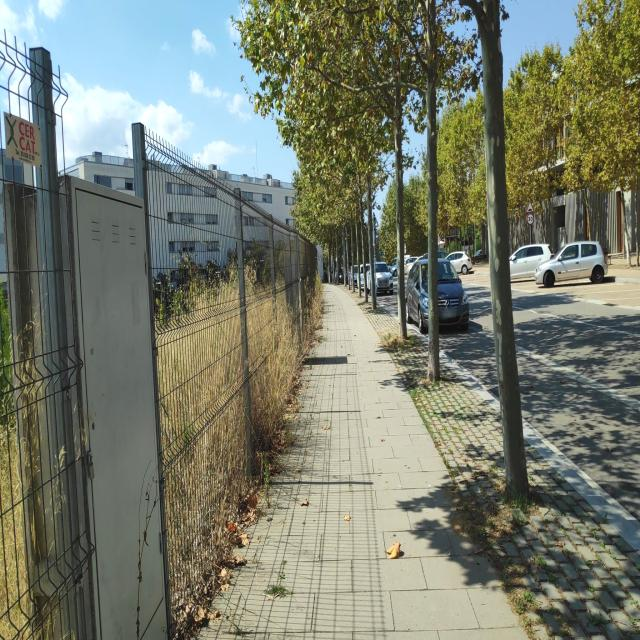car: (404, 254, 470, 332), (534, 239, 608, 288), (508, 242, 554, 284), (365, 260, 393, 296), (448, 250, 474, 275), (334, 267, 345, 284)
